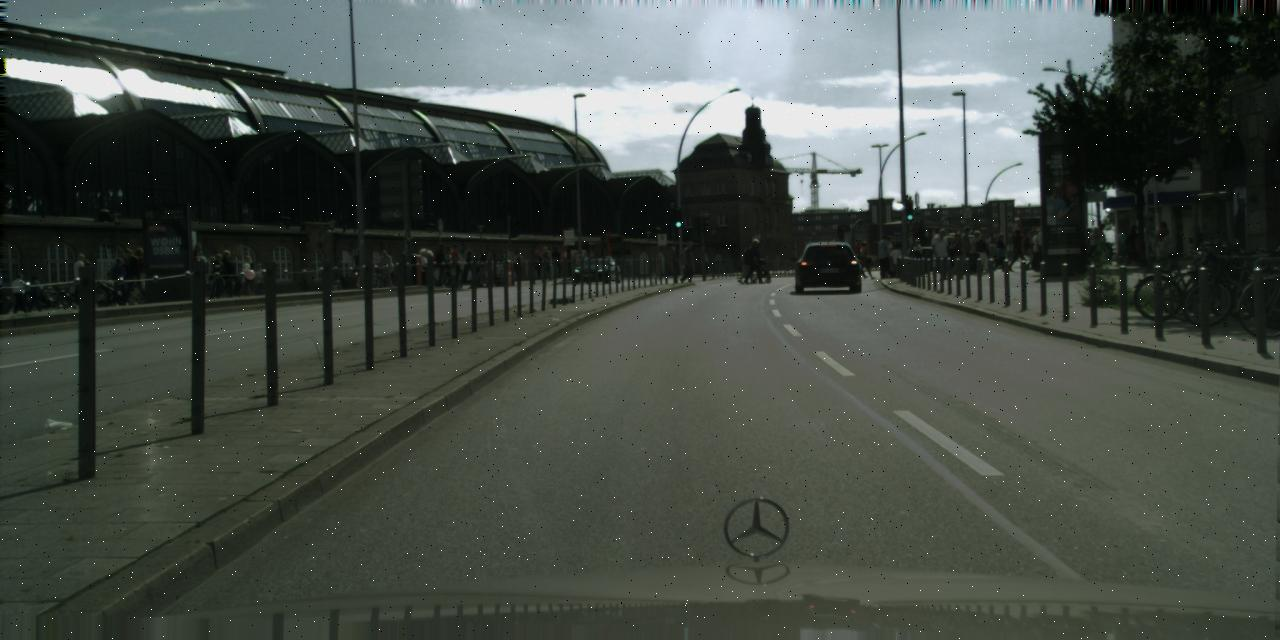ped: (119, 248, 142, 303), (68, 253, 91, 308), (128, 247, 150, 302), (114, 250, 136, 302), (930, 229, 950, 279), (107, 257, 127, 304), (216, 250, 235, 297), (955, 226, 974, 272), (432, 243, 450, 288), (745, 238, 763, 283), (948, 233, 966, 278), (446, 243, 464, 287), (876, 234, 894, 278), (974, 228, 992, 272), (208, 252, 225, 298), (12, 273, 30, 315), (967, 230, 984, 274), (203, 256, 220, 298), (79, 260, 96, 302), (678, 240, 695, 282), (939, 236, 956, 278), (1092, 223, 1109, 265), (1154, 222, 1171, 264), (881, 235, 897, 277), (350, 246, 366, 286), (12, 273, 28, 313), (1010, 229, 1026, 269), (1024, 229, 1040, 269), (1027, 229, 1043, 269), (1085, 226, 1101, 266), (1124, 224, 1140, 264), (856, 242, 872, 280), (739, 244, 754, 284), (1032, 231, 1047, 271), (242, 256, 257, 295), (1078, 227, 1093, 266), (848, 239, 864, 275), (442, 245, 457, 283), (992, 232, 1007, 270), (441, 248, 456, 284), (847, 243, 862, 279), (910, 238, 924, 276), (422, 250, 437, 284), (462, 250, 476, 286), (28, 275, 42, 311), (416, 248, 430, 284), (1021, 232, 1035, 266), (890, 245, 904, 278), (905, 242, 918, 276), (378, 249, 390, 283), (253, 264, 266, 294), (540, 246, 552, 278), (550, 246, 562, 276), (531, 249, 543, 279), (514, 250, 525, 278), (477, 264, 487, 287), (475, 248, 489, 263)
